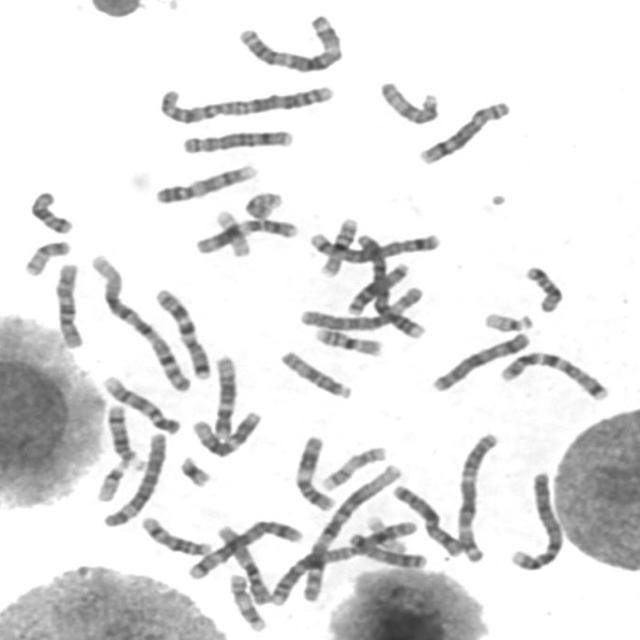A1: (288, 458, 405, 606), (84, 248, 194, 394)
A2: (263, 514, 421, 606), (152, 76, 338, 125)
A3: (231, 10, 345, 74), (450, 426, 502, 564)
B4: (351, 227, 429, 341), (504, 466, 564, 572)
B5: (182, 514, 305, 581), (303, 227, 443, 263)
C10: (212, 520, 272, 606), (48, 256, 85, 350)
C11: (190, 213, 300, 256), (289, 428, 338, 512)
C12: (186, 406, 264, 458), (206, 349, 238, 441)
C6: (96, 426, 169, 530), (294, 282, 426, 334)
C7: (493, 346, 612, 402), (148, 282, 214, 381)
C8: (412, 95, 512, 167), (176, 124, 296, 155)
C9: (98, 371, 182, 436), (149, 158, 260, 205)
D13: (341, 258, 412, 316), (343, 527, 429, 571)
D14: (134, 511, 214, 557), (98, 398, 144, 471)
D15: (274, 344, 355, 401), (373, 75, 442, 126)
E16: (314, 212, 362, 278), (308, 322, 386, 358)
E17: (316, 440, 389, 492), (224, 568, 268, 632)
E18: (24, 185, 75, 236), (519, 259, 565, 314)
F19: (210, 204, 253, 259), (361, 511, 409, 553)
F20: (17, 234, 73, 278), (240, 187, 284, 220)
G21: (173, 451, 213, 488)
G22: (90, 454, 131, 503), (478, 306, 536, 333)
X: (426, 326, 533, 394), (386, 479, 466, 557)
